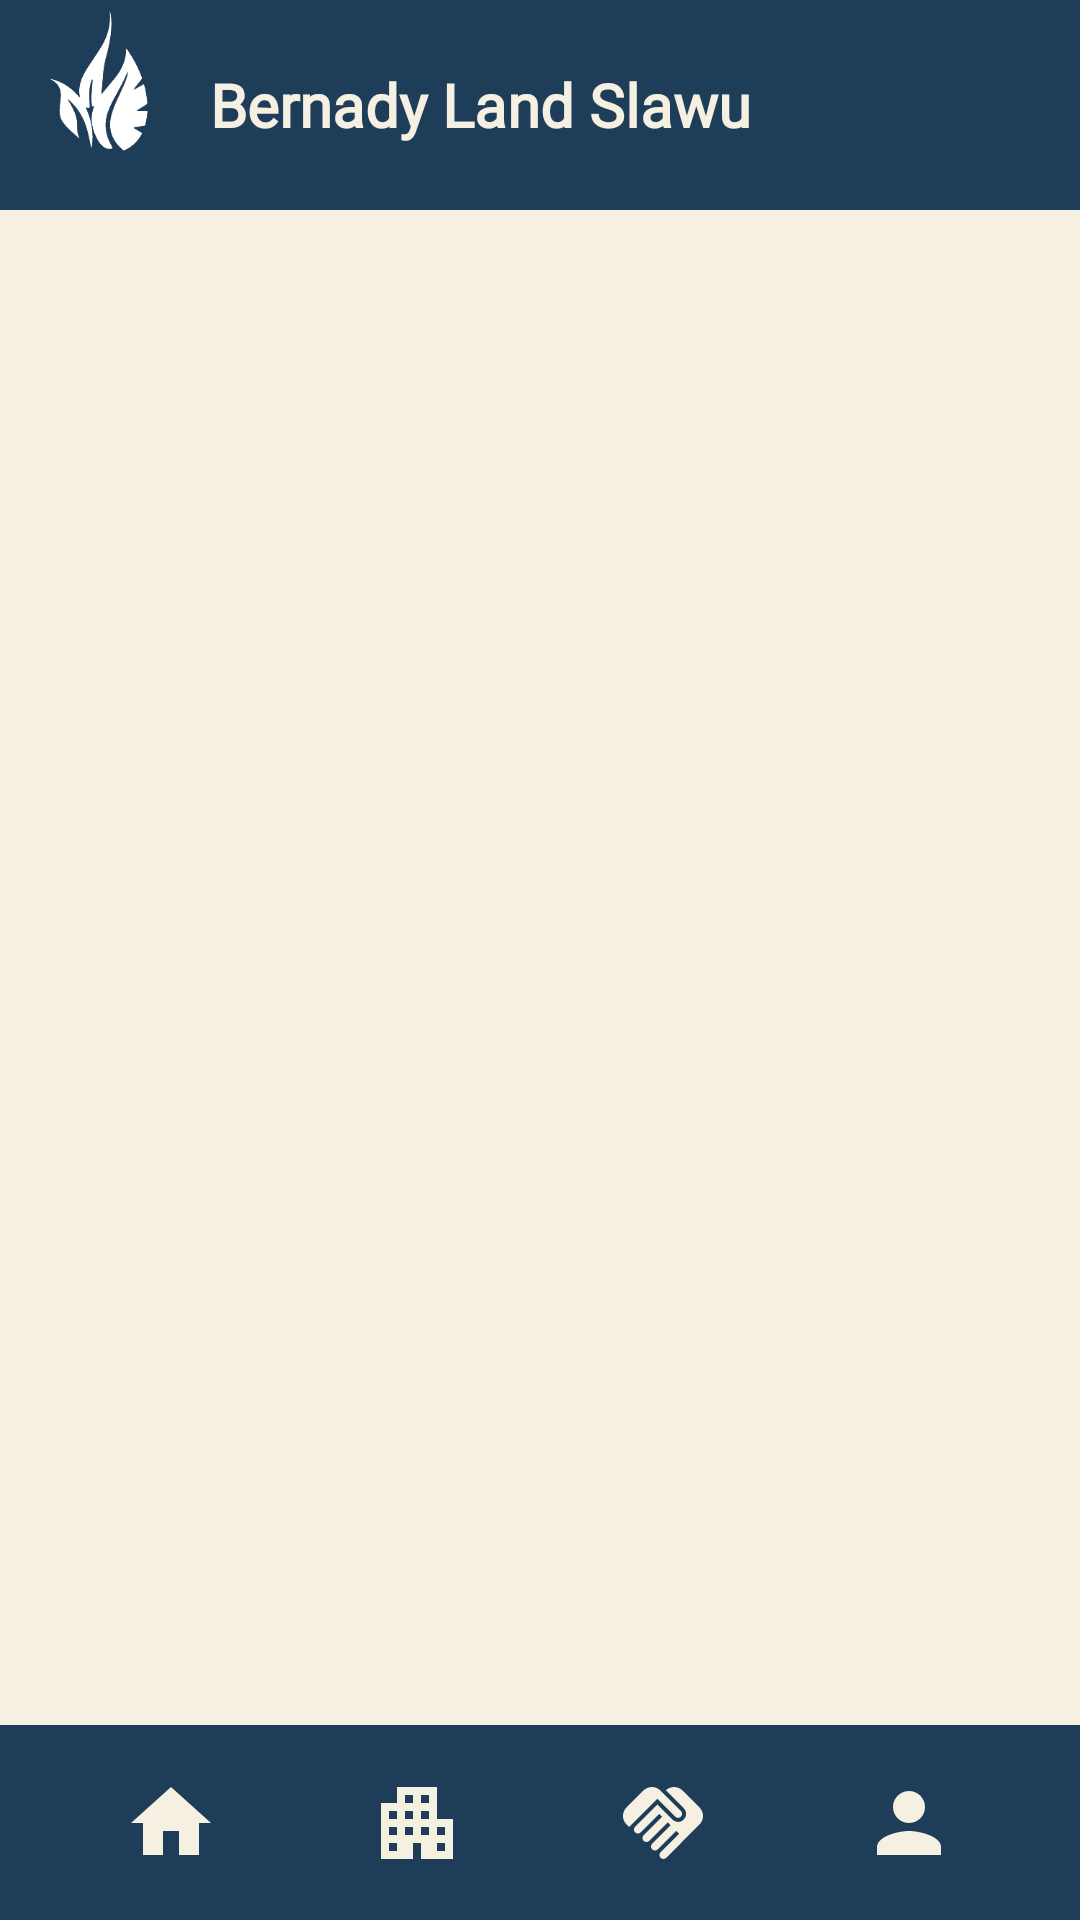

Where to tap for icons on this 1080w x 1920h app screen, as (x=x, y=y):
cluster: (x=417, y=1823)
home: (x=171, y=1821)
layanan: (x=663, y=1823)
person: (x=909, y=1823)
